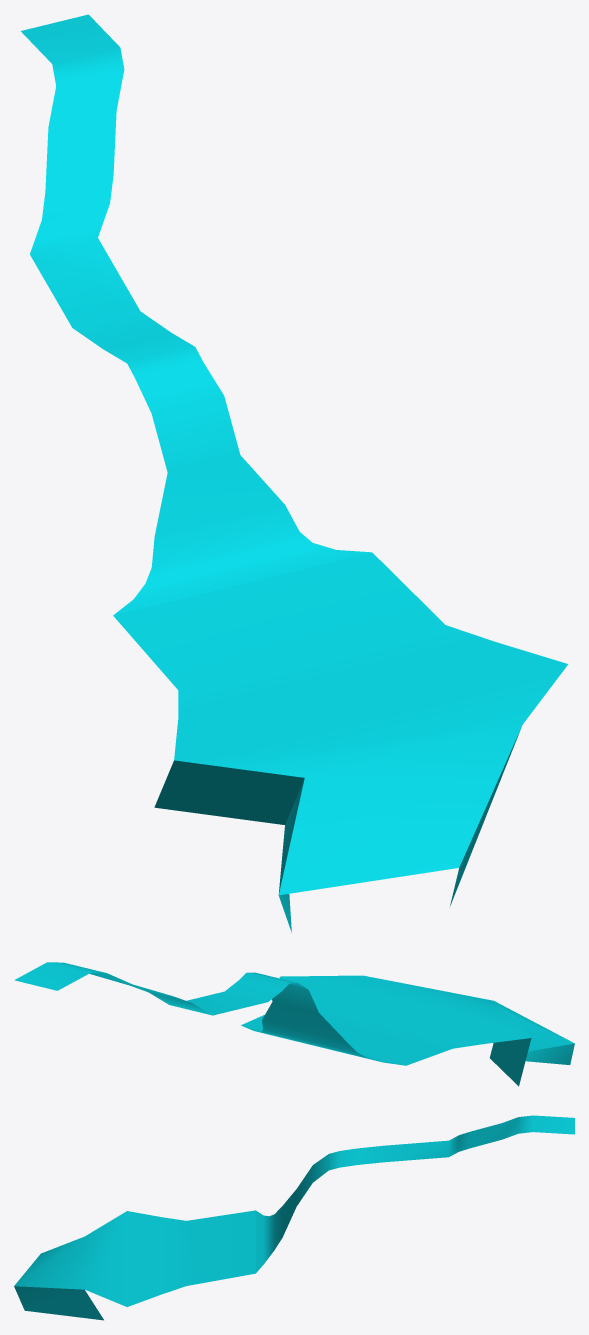
File: WATER_TOP.fbx
3 views of the same model, one above another, from view 1: azimuth 30°, elevation 25°; view 2: azimuth 150°, elevation 25°; view 3: azimuth 270°, elevation 25° (orthographic). The views are drawn at different scales.
Parts seen in each view (by area): view 1: WATER_TOP; view 2: WATER_TOP; view 3: WATER_TOP.
Part boxes in pixels (x1,y1,x2,y2): WATER_TOP: (21, 14, 568, 932); WATER_TOP: (14, 962, 574, 1086); WATER_TOP: (14, 1115, 574, 1320).
Size of the model in its own units: 25.91 by 27.92 by 63.84.
